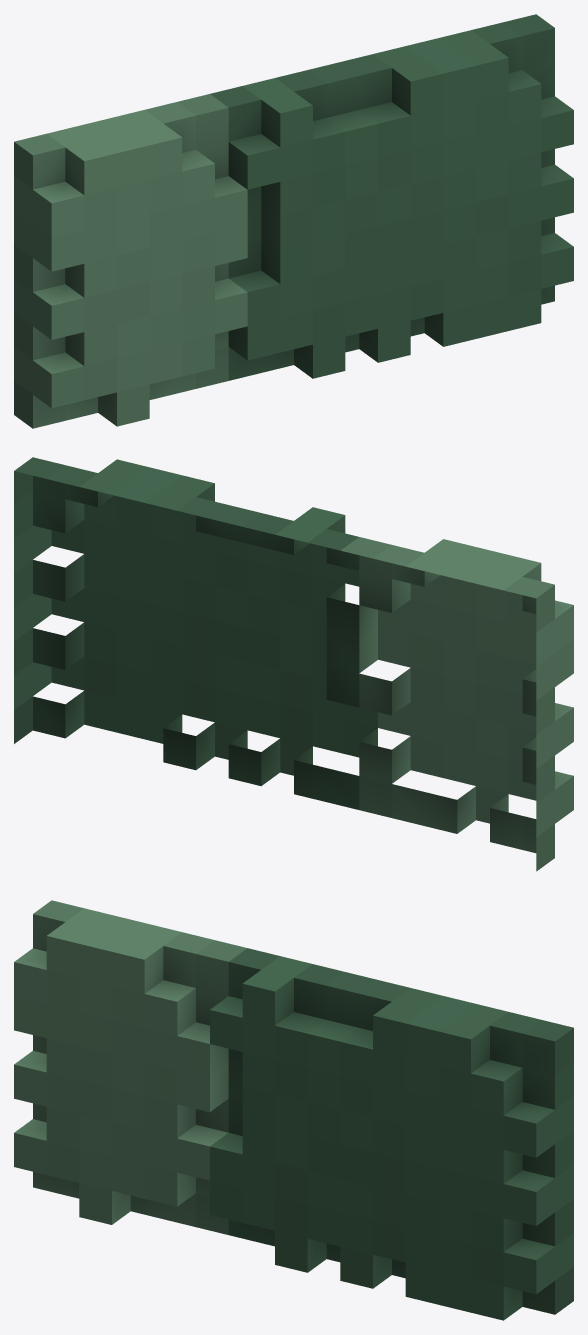
The model's file is ashlar_plain_3.glb.
3 renders of one model, top to bottom at view 1: azimuth 30°, elevation 25°; view 2: azimuth 150°, elevation 25°; view 3: azimuth 330°, elevation 25°, orthographic.
Visible parts, largest first — view 1: ashlar_plain_3; view 2: ashlar_plain_3; view 3: ashlar_plain_3.
Boxes of the visible parts, x1,y1,x2,y2 form: ashlar_plain_3: (14, 14, 573, 428); ashlar_plain_3: (14, 457, 573, 871); ashlar_plain_3: (14, 900, 573, 1320).
Bounding box in the file's own units: 1 × 0.5 × 0.125.
